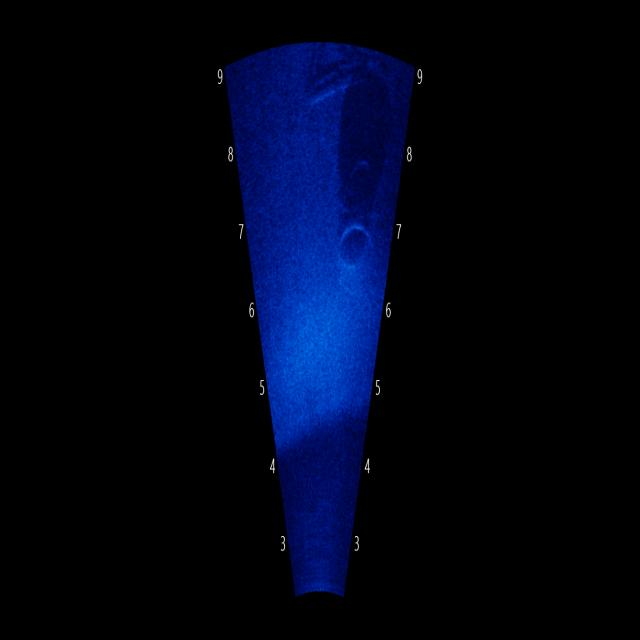circle: (324, 206, 381, 308)
